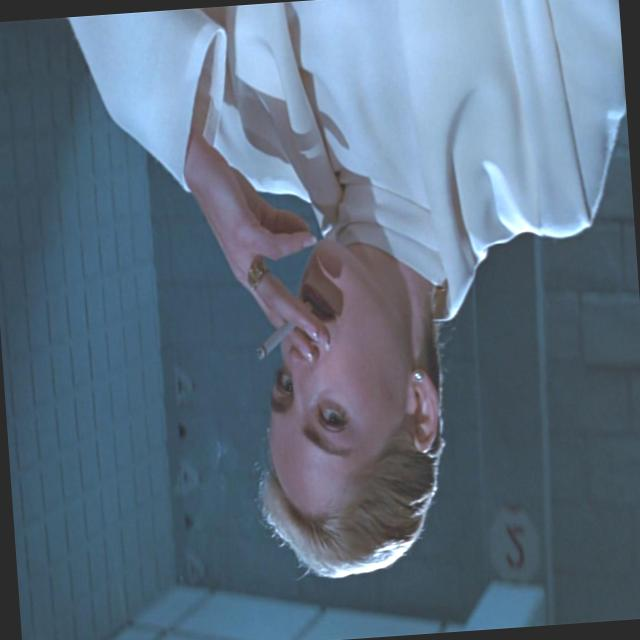cigarette: (243, 295, 314, 376)
